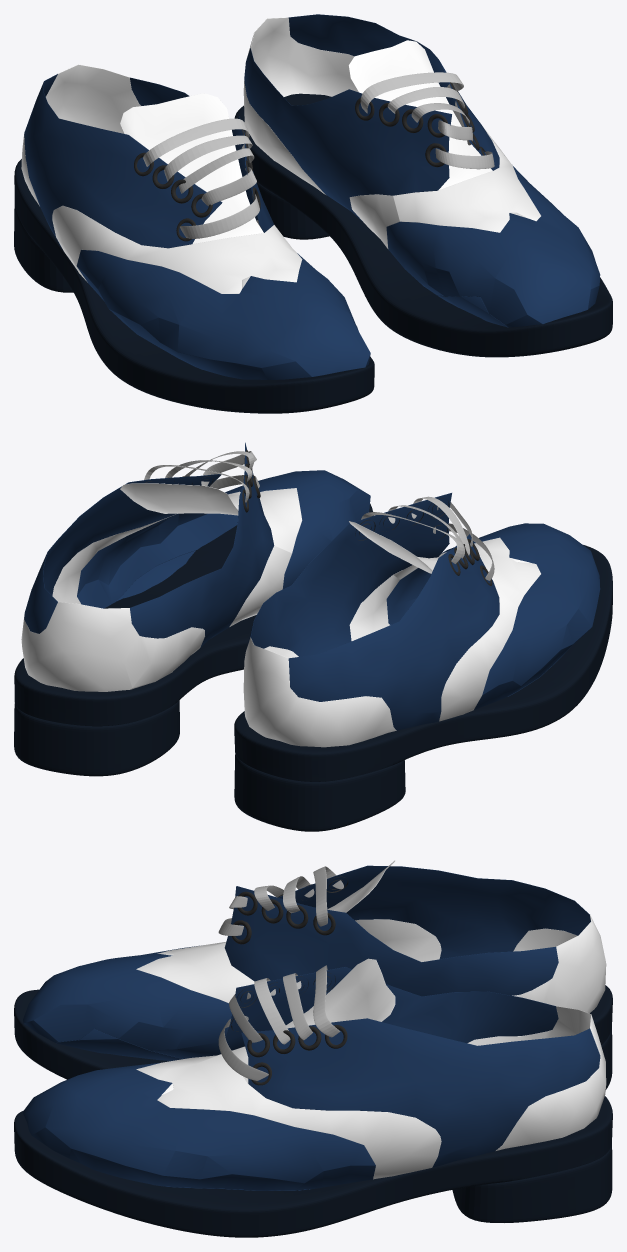
Rendered from za2pri1 1.fbx.
3 views of the same model, one above another, from view 1: azimuth 30°, elevation 25°; view 2: azimuth 150°, elevation 25°; view 3: azimuth 270°, elevation 25° (orthographic).
Parts seen in each view (by area): view 1: zapato2.001, zapato2, Plane, Plane.011, Plane.007, Plane.004, Plane.006, Plane.008, Plane.003, Plane.010, Plane.009, Plane.005; view 2: zapato2.001, zapato2, Plane.011, Plane, Plane.010; view 3: zapato2, zapato2.001, Plane, Plane.011, Plane.001, Plane.003, Plane.004, Plane.007, Plane.005, Plane.008, Plane.002.
Part boxes in pixels (x1,y1,x2,y2): zapato2.001: (21, 64, 370, 379); zapato2: (243, 14, 600, 327); Plane: (234, 93, 612, 357); Plane.011: (14, 159, 374, 413); Plane.007: (143, 118, 249, 166); Plane.004: (360, 72, 463, 113); Plane.006: (180, 194, 259, 238); Plane.008: (164, 135, 252, 181); Plane.003: (387, 87, 464, 113); Plane.010: (179, 148, 254, 193); Plane.009: (201, 167, 256, 206); Plane.005: (435, 148, 494, 169); zapato2.001: (243, 493, 600, 747); zapato2: (21, 442, 370, 691); Plane.011: (234, 545, 612, 831); Plane: (14, 503, 373, 776); Plane.010: (411, 496, 469, 555); zapato2: (23, 958, 606, 1190); zapato2.001: (23, 860, 606, 1060); Plane: (14, 1096, 612, 1237); Plane.011: (14, 985, 612, 1089); Plane.001: (254, 978, 290, 1044); Plane.003: (283, 973, 312, 1040); Plane.004: (313, 965, 340, 1037); Plane.007: (313, 866, 343, 926); Plane.005: (218, 1016, 268, 1080); Plane.008: (283, 876, 314, 913); Plane.002: (229, 992, 262, 1042).
Size of the model in its own units: 390 by 176 by 447.
